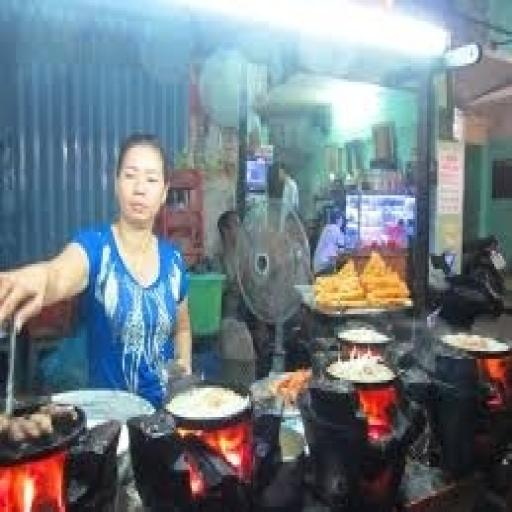eating: (0, 130, 196, 406)
